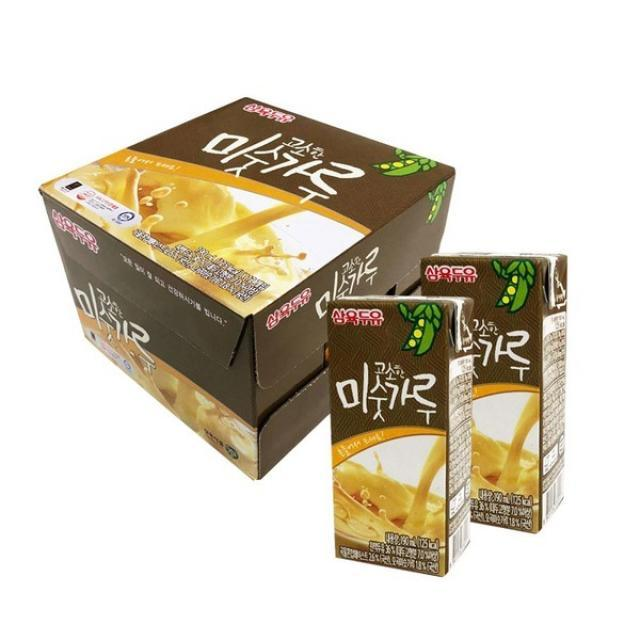Tetra: (424, 250, 578, 542), (331, 291, 471, 574)
